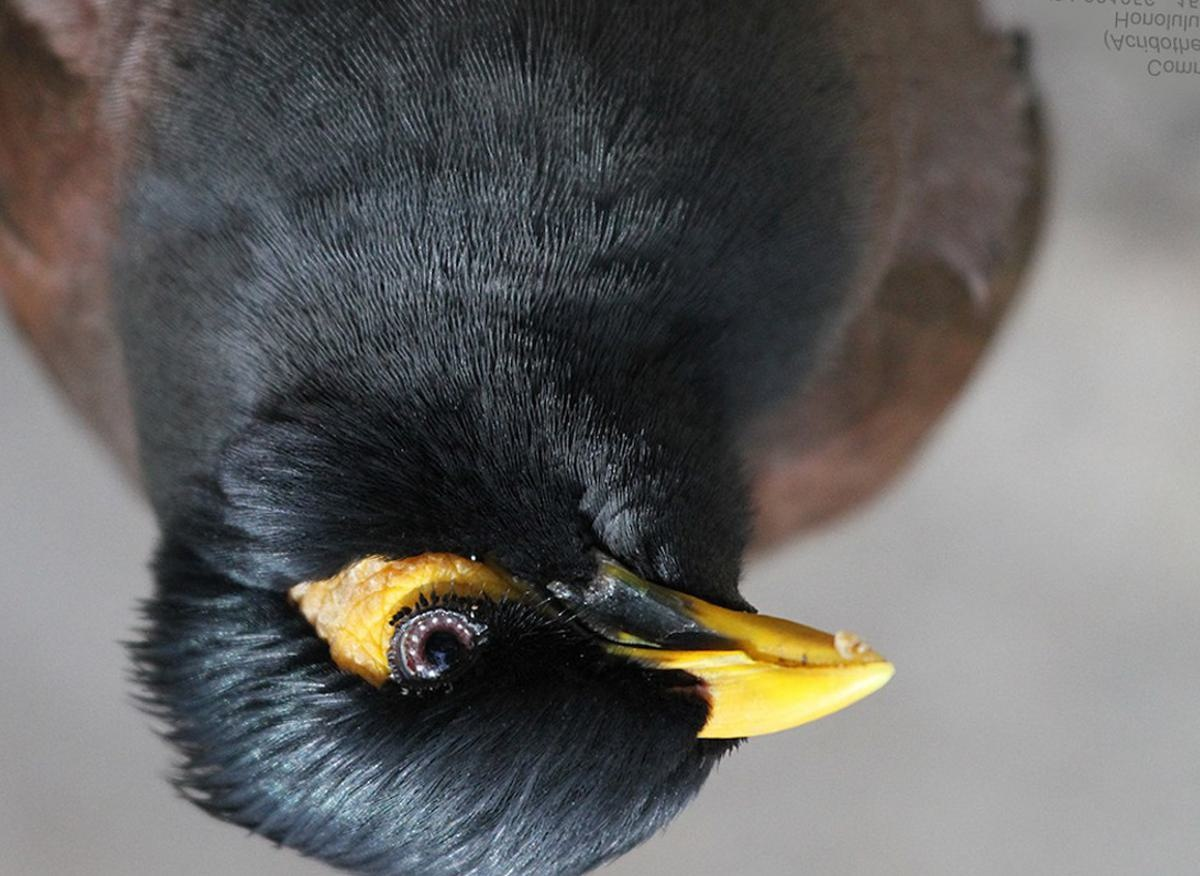myna: (177, 6, 929, 861)
